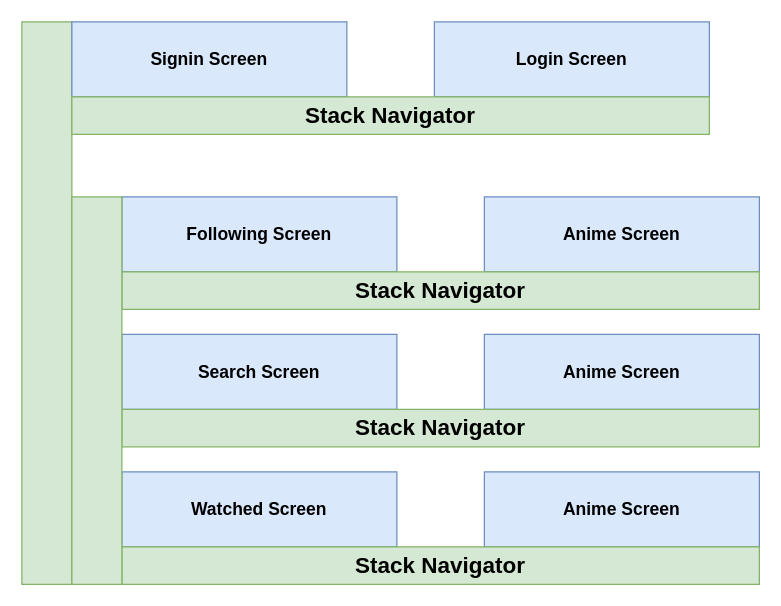
Some shapes in this 781 by 606 pixel diagram are drawn without their labels. Here are the shapes that lost their labels. From the top down, the box of each, then its label:
(21, 21, 72, 584): Switch Navigator
(71, 196, 122, 584): Bottom Tab Navigator
